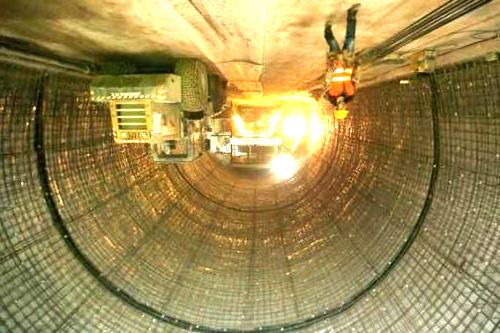helmet: (333, 102, 349, 120)
